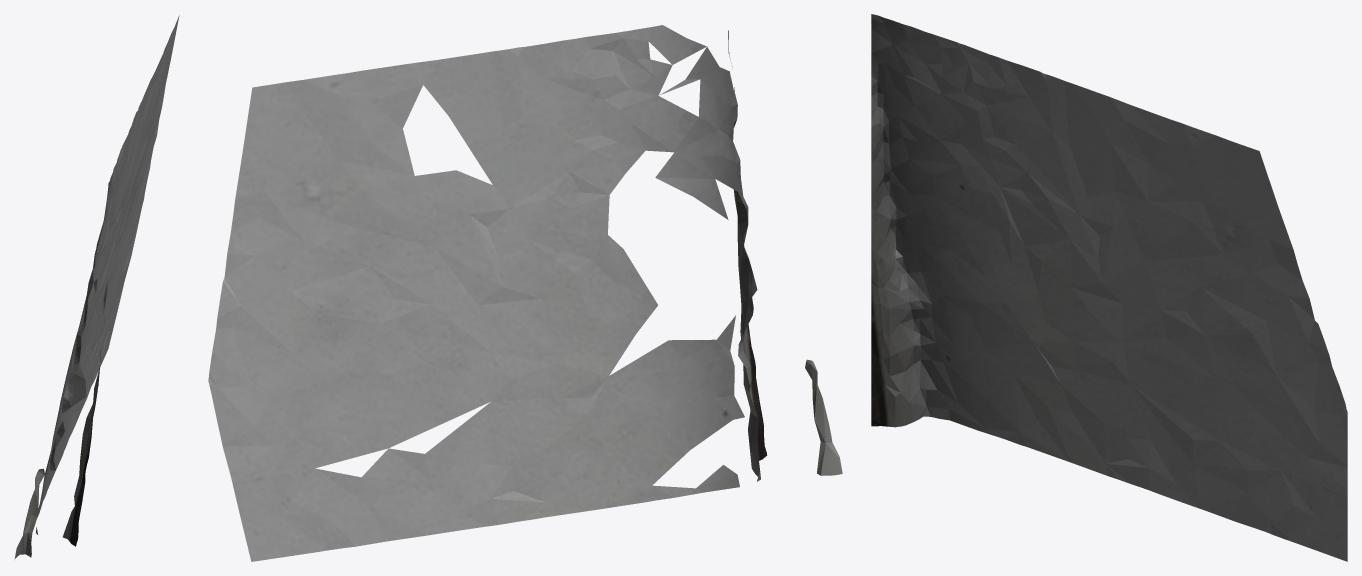
The picture shows the model from 3 angles, left to right: view 1: azimuth 30°, elevation 25°; view 2: azimuth 150°, elevation 25°; view 3: azimuth 270°, elevation 25°; orthographic projection. The views are drawn at different scales.
Bounding box in the file's own units: 0.8048 × 0.8373 × 0.8373.
3 materials, 3 textured.
